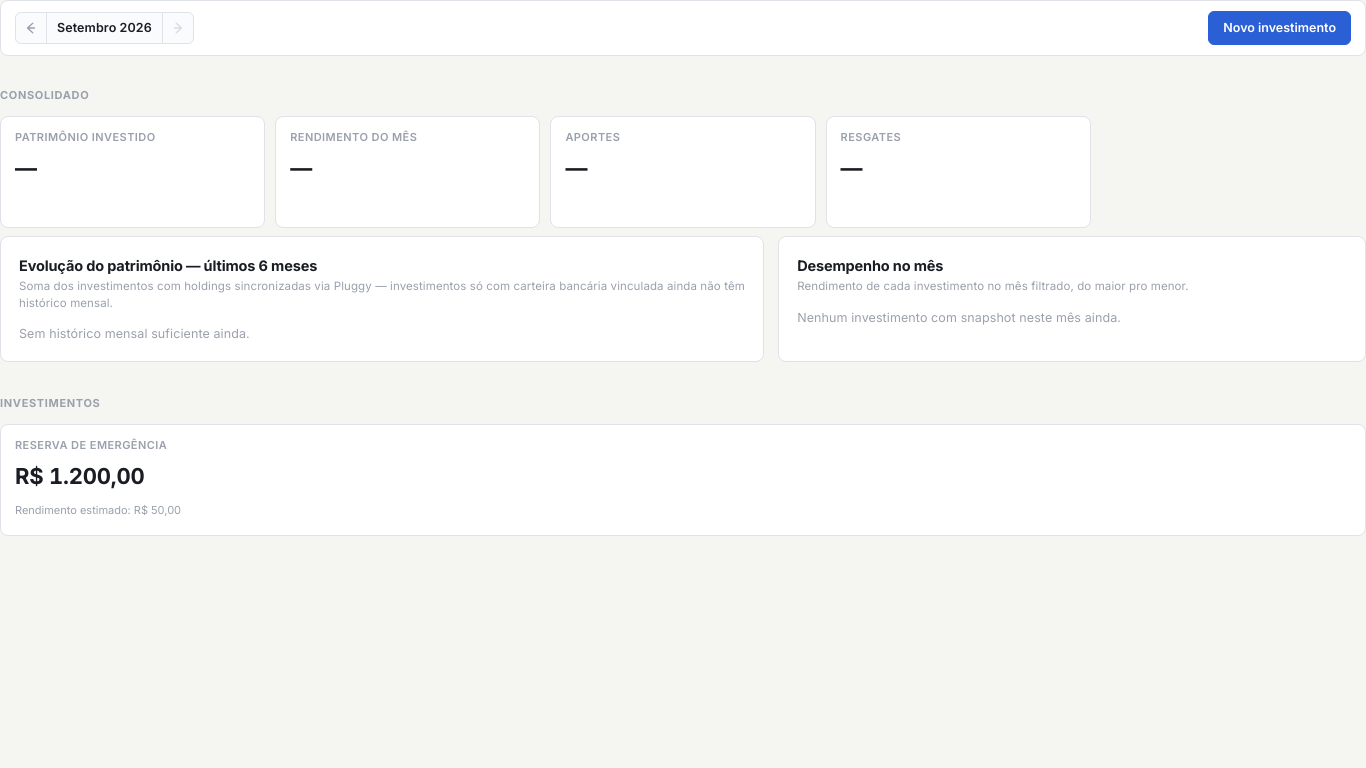
Test: InvestimentosPage › opens the drilldown Posições view showing the holding and its expandable transaction history
The width and height of the screenshot is (1366, 768).
Check: the text "Reserva de emergência" is shown, box top-left (15, 438), bottom-right (167, 454)
Click the button "Reserva de emergência" at x=683, y=480, box top-left (0, 424), bottom-right (1365, 536)
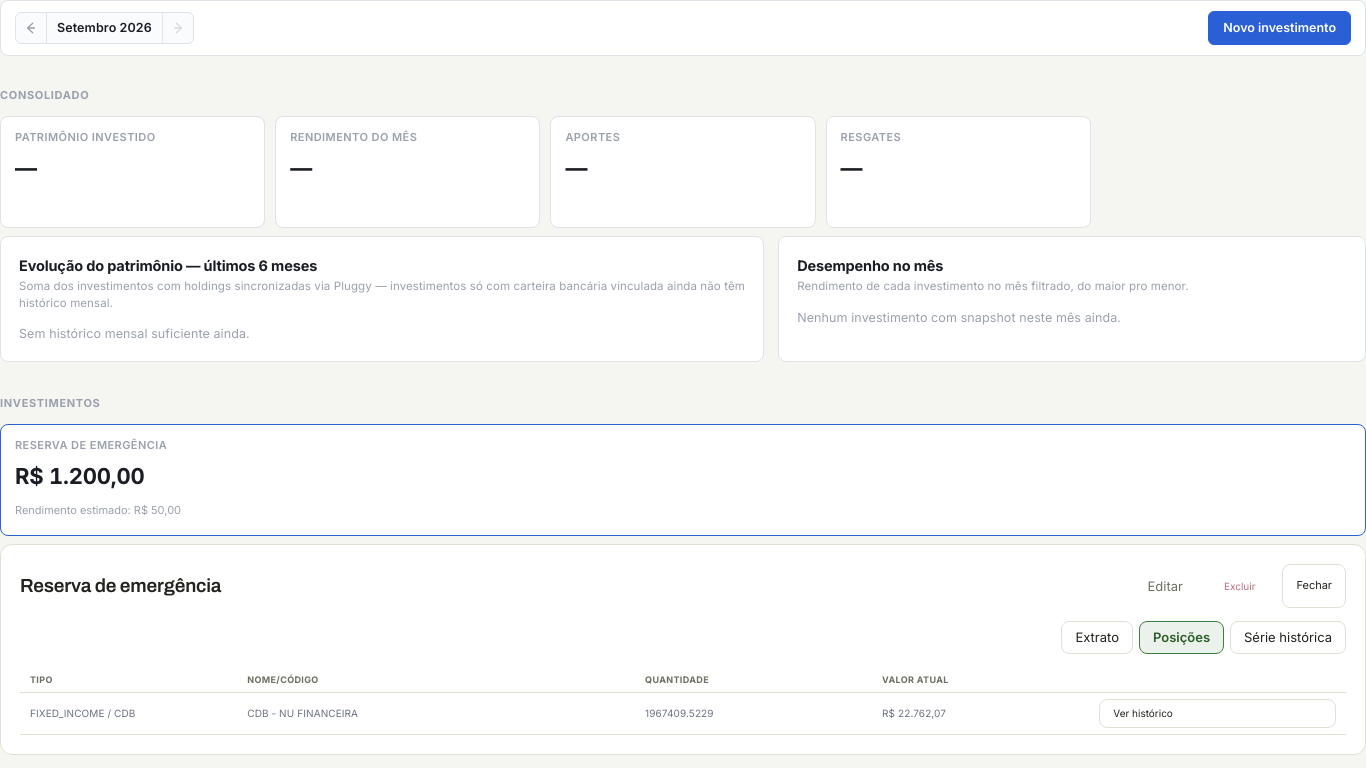
Check: the text "CDB - NU FINANCEIRA" is shown, box top-left (237, 692), bottom-right (635, 734)
Check: the text "FIXED_INCOME / CDB" is shown, box top-left (20, 692), bottom-right (237, 734)
Check: the text "R$ 22.762,07" is shown, box top-left (872, 692), bottom-right (1089, 734)
Click the button "Ver histórico" at x=1218, y=713, box top-left (1099, 699), bottom-right (1336, 728)
(page scrolled)
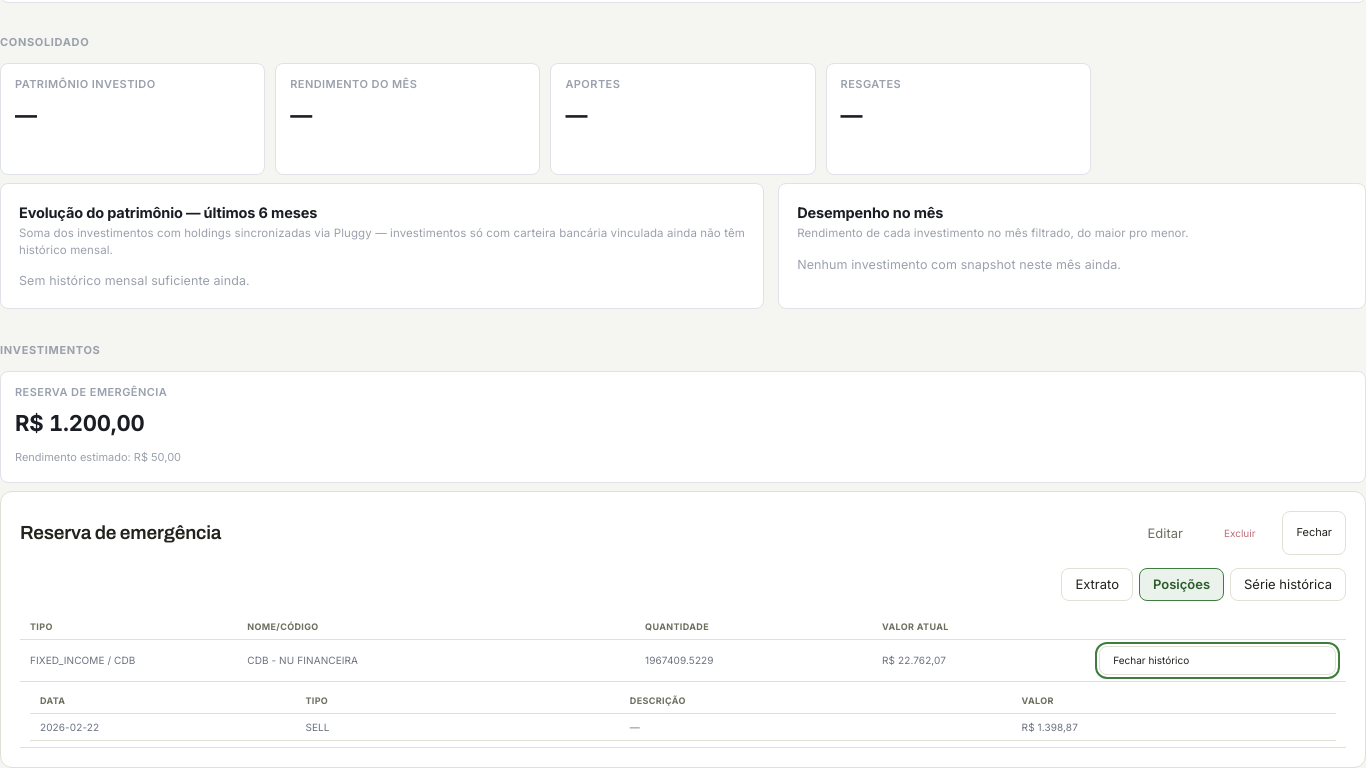
Check: the text "SELL" is shown, box top-left (295, 713), bottom-right (620, 741)
Check: the text "R$ 1.398,87" is shown, box top-left (1012, 713), bottom-right (1336, 741)
